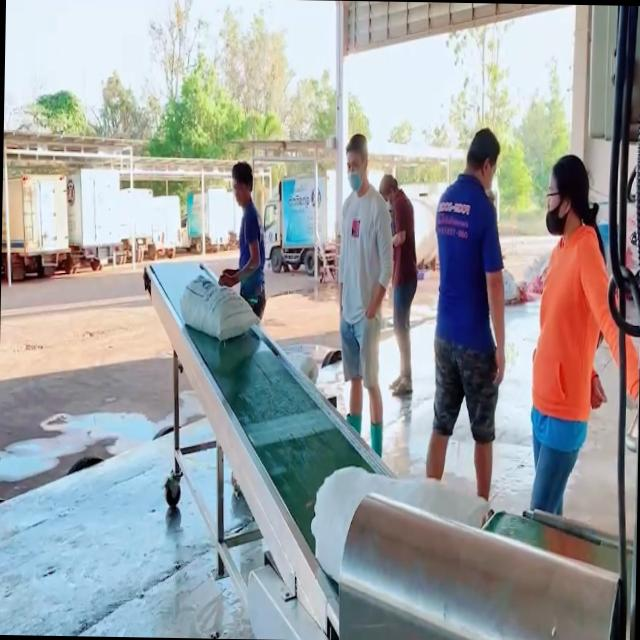ice-bag: (301, 448, 496, 594), (178, 253, 257, 344)
